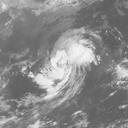cyclone: (50, 28, 95, 71)
